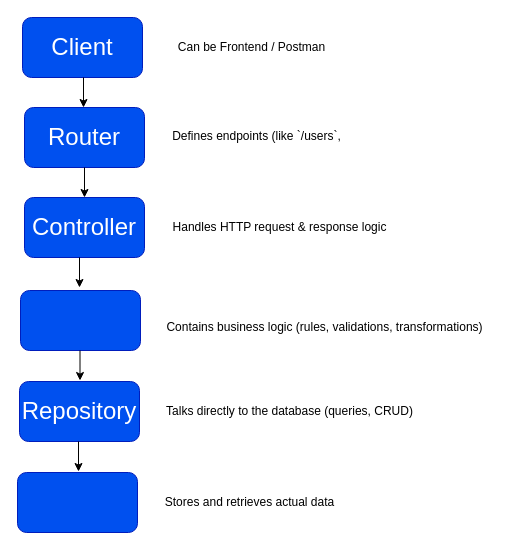
The diagram is 512 pixels wide and 550 high, and some of its shapes have lost their labels. Each missing label, with the box of its shape:
Database: (16, 472, 138, 532)
Service: (20, 290, 140, 350)
